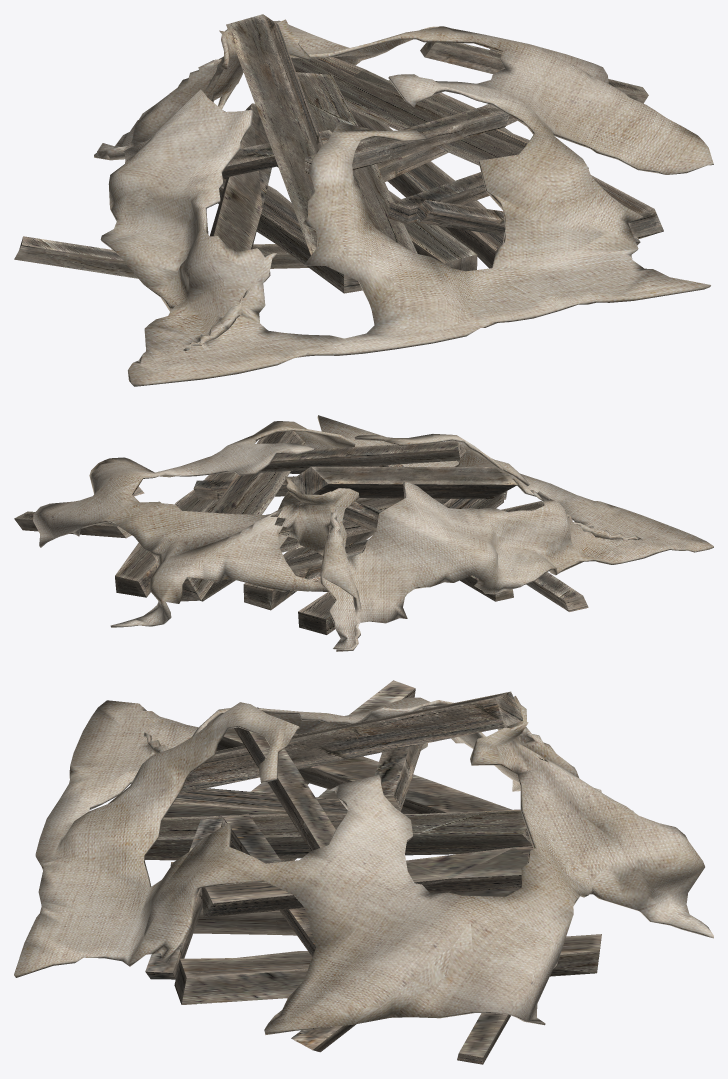
The model's file is WOOD WASTE.fbx.
3 renders of one model, top to bottom at view 1: azimuth 30°, elevation 25°; view 2: azimuth 150°, elevation 25°; view 3: azimuth 270°, elevation 25°, orthographic. The views are drawn at different scales.
Visible parts, largest first — view 1: WOOD WASTE; view 2: WOOD WASTE; view 3: WOOD WASTE.
Part boxes in pixels (x1=…): WOOD WASTE: x1=14, y1=14, x2=713, y2=386; WOOD WASTE: x1=14, y1=415, x2=713, y2=651; WOOD WASTE: x1=14, y1=680, x2=713, y2=1064.
Size of the model in its own units: 2.38 by 0.5665 by 1.99.
